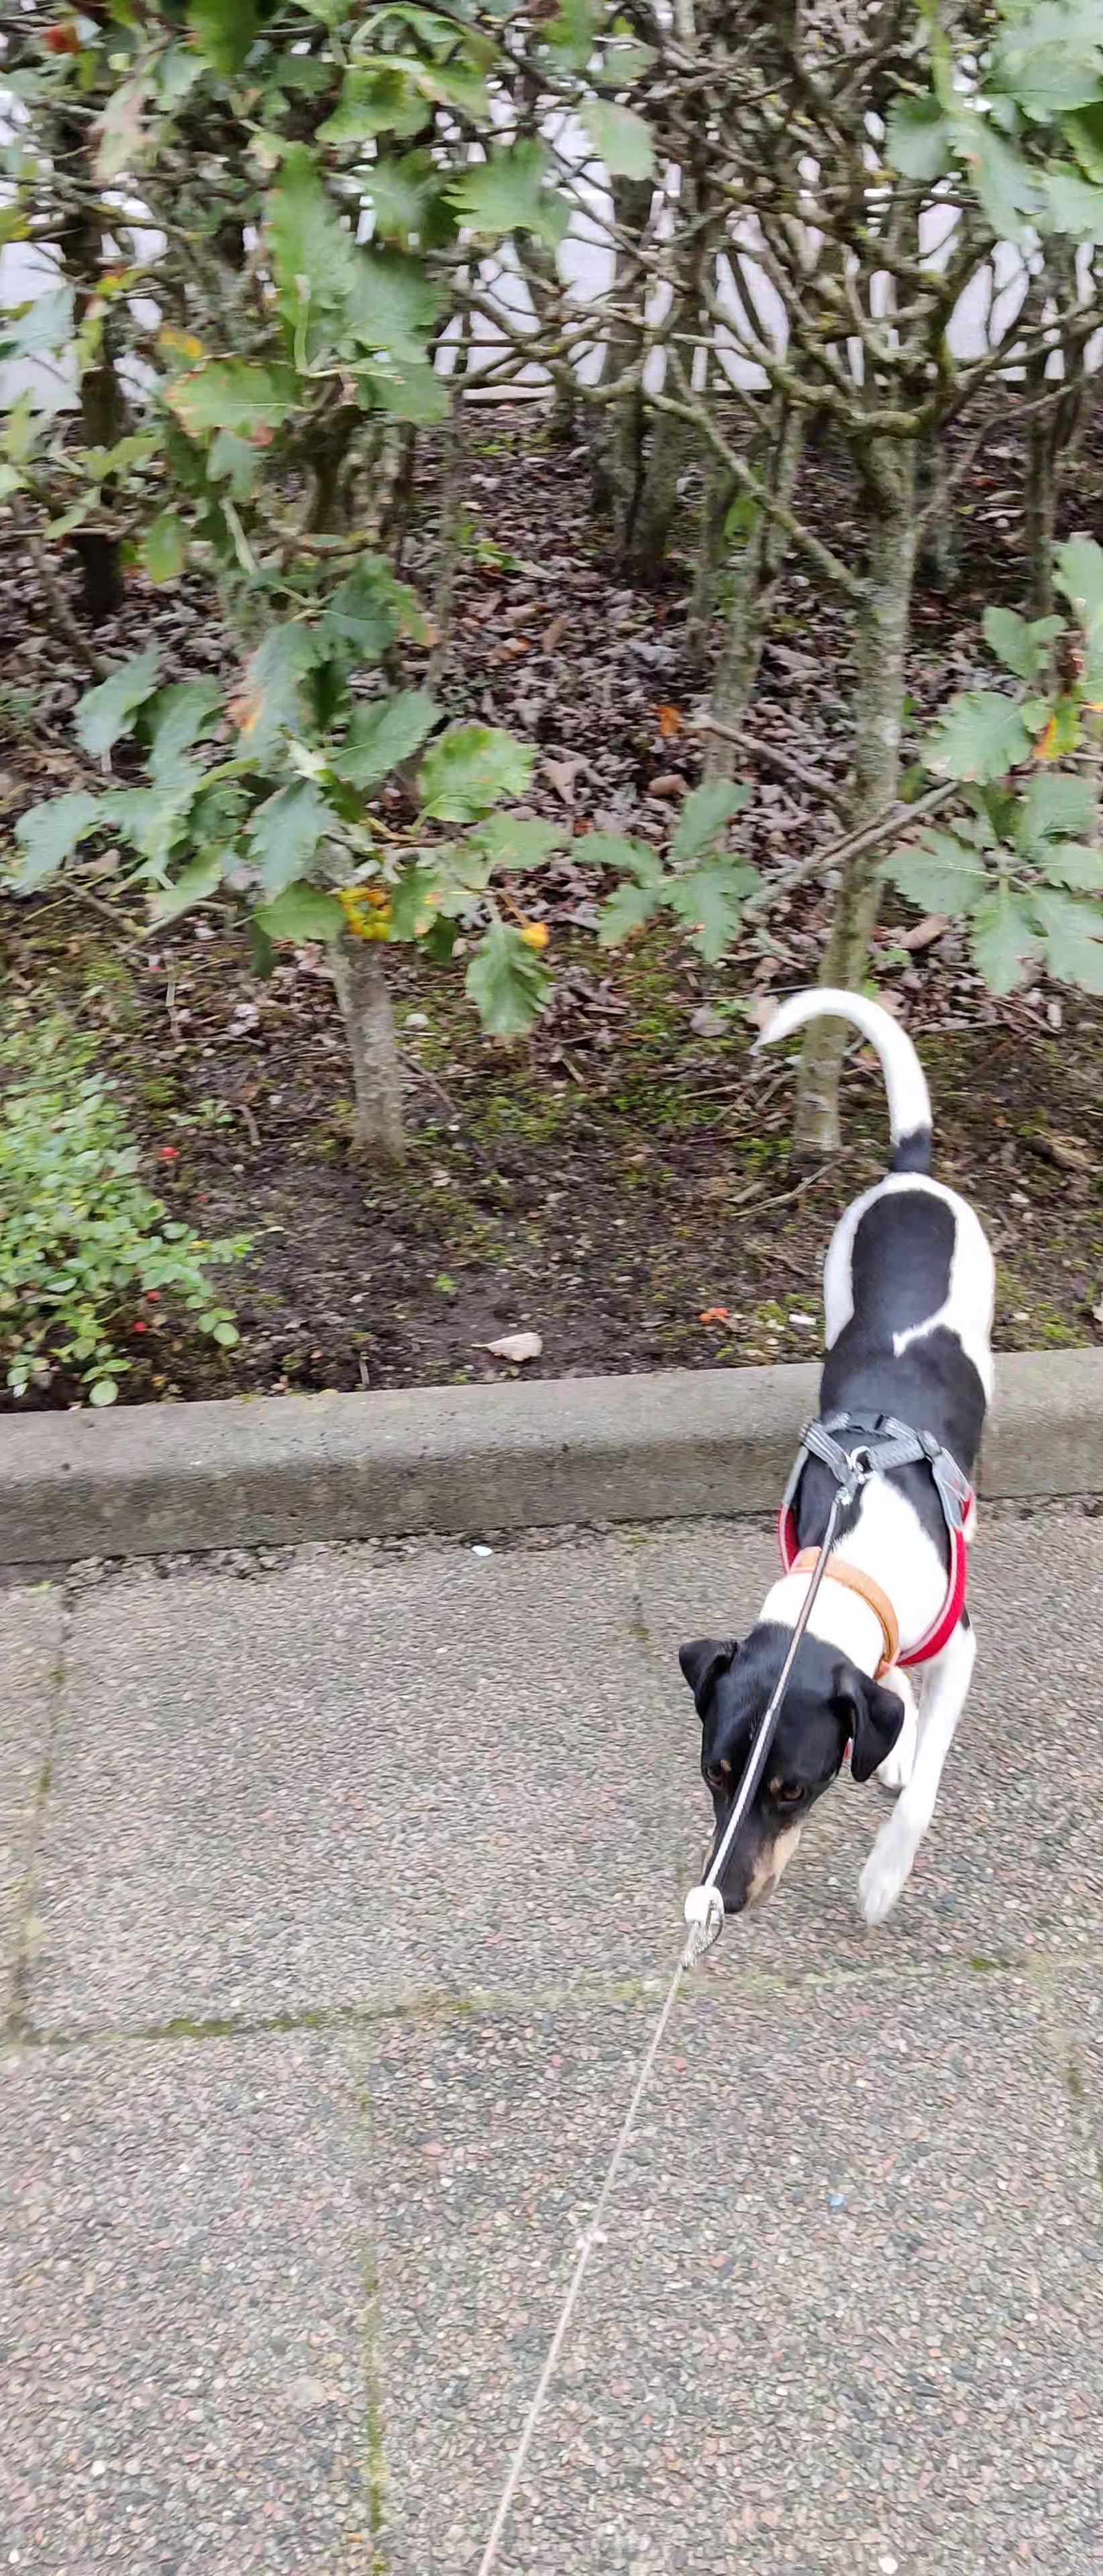Dog: (671, 977, 1008, 1947)
